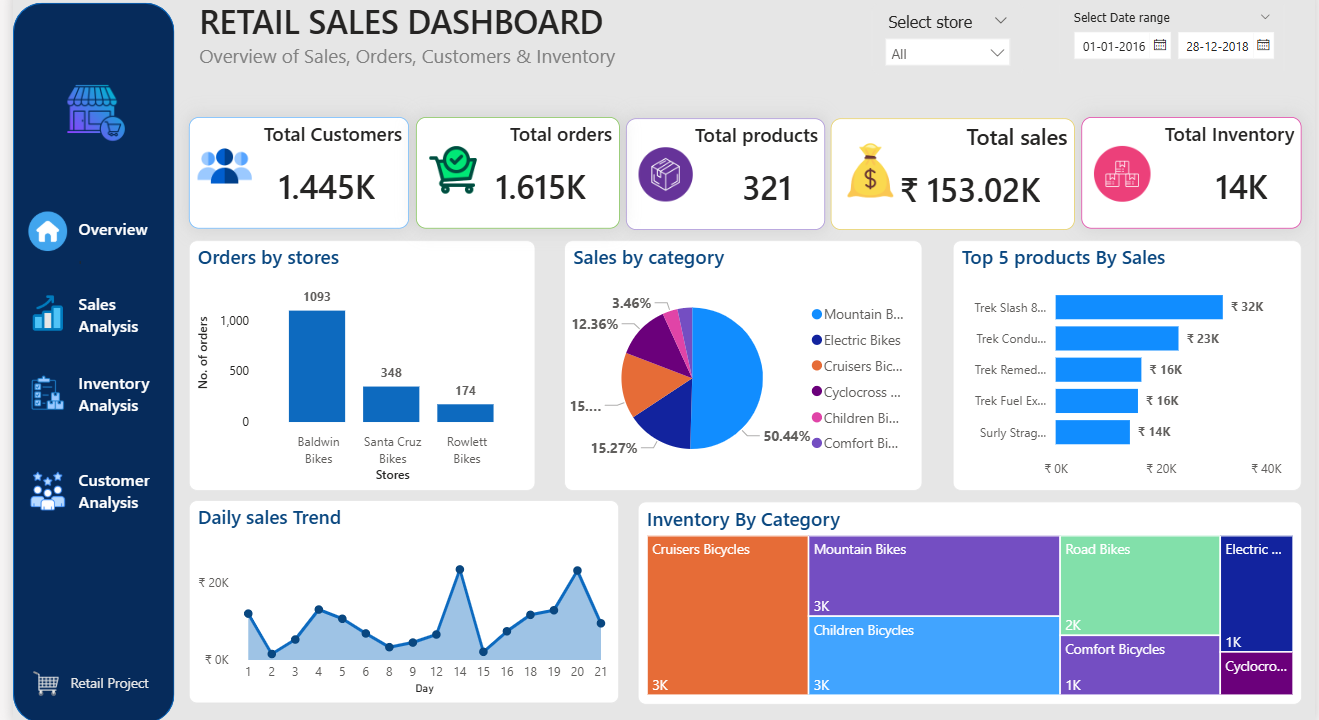

This screenshot's page, from the dashboard's own definition file:
{"tool":"powerbi","page":{"name":"Overview","canvas":[1280,720],"ordinal":0},"visuals":[{"type":"textbox","box":[178,2.6,455.4,87.7],"z":0},{"type":"cardVisual","title":"Total Customers","fields":{"Data":["CountNonNull(customers_clean.customer_id)"]},"box":[173,124,216.7,109.7],"z":1000},{"type":"slicer","fields":{"Values":["stores_clean.store_name"]},"box":[844.2,11.8,150,70],"z":2000},{"type":"cardVisual","title":"Total orders","fields":{"Data":["CountNonNull(orders_clean.order_id)"]},"box":[395.9,123.9,200,109.7],"z":2000,"group":"g1"},{"type":"clusteredColumnChart","title":"Orders by stores","fields":{"Category":["stores_clean.store_name"],"Y":["CountNonNull(orders_clean.order_id)"]},"box":[172.9,245.1,340.6,246.4],"z":3000},{"type":"cardVisual","title":"Total products","fields":{"Data":["CountNonNull(products_clean.product_id)"]},"box":[601.9,125.3,196.1,109.7],"z":4000},{"type":"shape","box":[0,11.6,158.7,708.3],"z":5000},{"type":"cardVisual","title":"Total Inventory","fields":{"Data":["Sum(stocks_clean.quantity)"]},"box":[1050.1,123.9,216.7,109.7],"z":6000},{"type":"image","box":[9,216.7,50.3,38.7],"z":7000},{"type":"image","box":[405.1,135.7,55.5,81.3],"z":7009,"group":"g1"},{"type":"image","box":[8.6,297.3,50.3,40],"z":8000},{"type":"image","box":[9,375.4,50.3,38.7],"z":9000},{"type":"image","box":[8.6,472.3,50.3,38.7],"z":10000},{"type":"image","box":[180.6,131.6,55.5,81.3],"z":11000},{"type":"image","box":[1062.2,139.4,57.4,81],"z":12000},{"type":"image","box":[613.9,140.4,55.5,80],"z":13000},{"type":"textbox","box":[59.3,216.7,99.3,314.8],"z":14000},{"type":"cardVisual","title":"Total sales","fields":{"Data":["Sum(order_items_clean.sales_amount)"]},"box":[804.1,125.1,240,109.7],"z":15000},{"type":"image","box":[815.3,136.8,55.5,80],"z":16000},{"type":"pieChart","title":"Sales by category","fields":{"Category":["categories_clean.category_name"],"Y":["Sum(order_items_clean.sales_amount)"]},"box":[542.5,245.1,352.2,246.4],"z":17000},{"type":"image","box":[51.6,89,60,62],"z":18000},{"type":"image","title":"Retail shop","box":[18.1,665.7,29.7,29.7],"z":19000},{"type":"textbox","box":[51.6,665.7,96.8,34.8],"z":20000},{"type":"barChart","title":"Top 5 products By Sales","fields":{"Category":["products_clean.product_name"],"Y":["Sum(order_items_clean.sales_amount)"]},"box":[923.7,245.1,343.2,246.4],"z":21000},{"type":"lineChart","title":"Daily sales Trend","fields":{"Y":["Sum(order_items_clean.sales_amount)"],"Category":["orders_clean.order_date.Variation.Date Hierarchy.Day"]},"box":[172.9,500.6,423.2,200],"z":22000},{"type":"treemap","title":"Inventory By Category","fields":{"Values":["Sum(stocks_clean.quantity)"],"Group":["categories_clean.category_name"]},"box":[614.3,501.3,653,199.3],"z":23000},{"type":"slicer","title":"Filter by date","fields":{"Values":["orders_clean.order_date"]},"box":[1028.2,11.6,221.9,69.7],"z":24000},{"type":"group","id":"g1","title":"Group 3","box":[395.9,123.9,200,109.7],"z":25000}]}

Visuals, with their boxes on the page's 1280x720 design canvas (x1, y1, x2, y2). These are canvas units, not pixel positions in the 1319x720 screenshot, which may show the page scaled, cropped or inside an application window:
textbox: bbox=(178, 3, 633, 90)
"Total Customers" cardVisual: bbox=(173, 124, 390, 234)
slicer - stores_clean.store_name: bbox=(844, 12, 994, 82)
"Total orders" cardVisual: bbox=(396, 124, 596, 234)
"Orders by stores" clusteredColumnChart: bbox=(173, 245, 514, 492)
"Total products" cardVisual: bbox=(602, 125, 798, 235)
shape: bbox=(0, 12, 159, 720)
"Total Inventory" cardVisual: bbox=(1050, 124, 1267, 234)
image: bbox=(9, 217, 59, 255)
image: bbox=(405, 136, 461, 217)
image: bbox=(9, 297, 59, 337)
image: bbox=(9, 375, 59, 414)
image: bbox=(9, 472, 59, 511)
image: bbox=(181, 132, 236, 213)
image: bbox=(1062, 139, 1120, 220)
image: bbox=(614, 140, 669, 220)
textbox: bbox=(59, 217, 159, 532)
"Total sales" cardVisual: bbox=(804, 125, 1044, 235)
image: bbox=(815, 137, 871, 217)
"Sales by category" pieChart: bbox=(542, 245, 895, 492)
image: bbox=(52, 89, 112, 151)
"Retail shop" image: bbox=(18, 666, 48, 695)
textbox: bbox=(52, 666, 148, 700)
"Top 5 products By Sales" barChart: bbox=(924, 245, 1267, 492)
"Daily sales Trend" lineChart: bbox=(173, 501, 596, 701)
"Inventory By Category" treemap: bbox=(614, 501, 1267, 701)
"Filter by date" slicer: bbox=(1028, 12, 1250, 81)
"Group 3" group: bbox=(396, 124, 596, 234)
